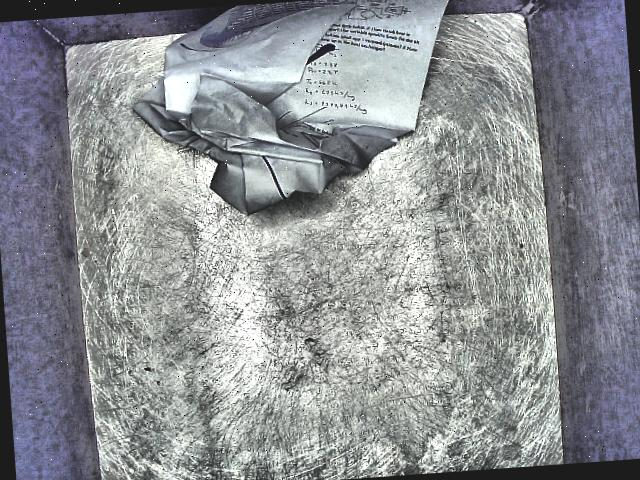Paper: (118, 0, 481, 234)
